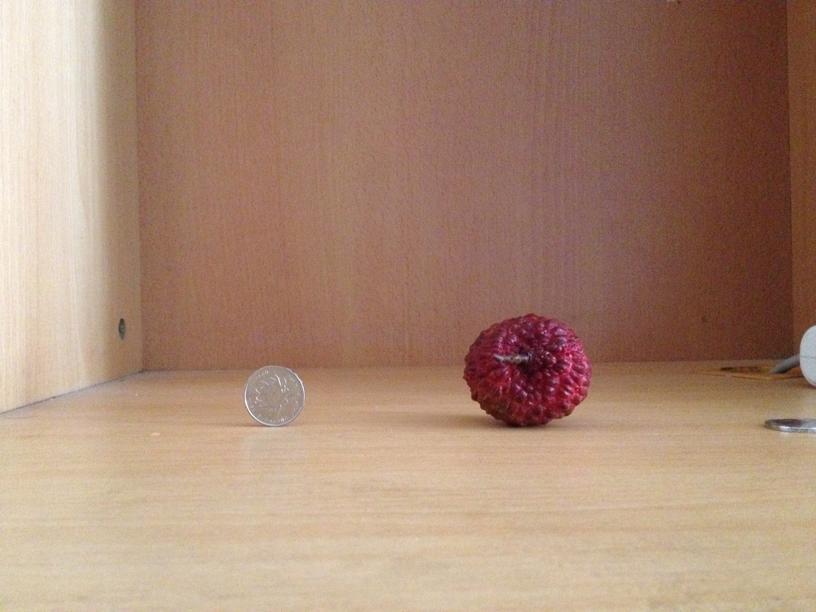coin: (240, 363, 307, 426)
litchi: (468, 315, 589, 425)
